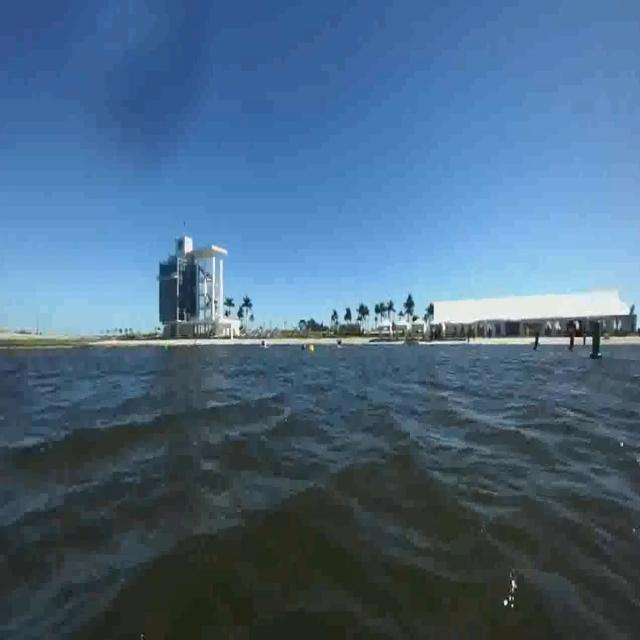green-column-buoy: (589, 320, 605, 363)
yellow-buoy: (307, 344, 313, 356)
